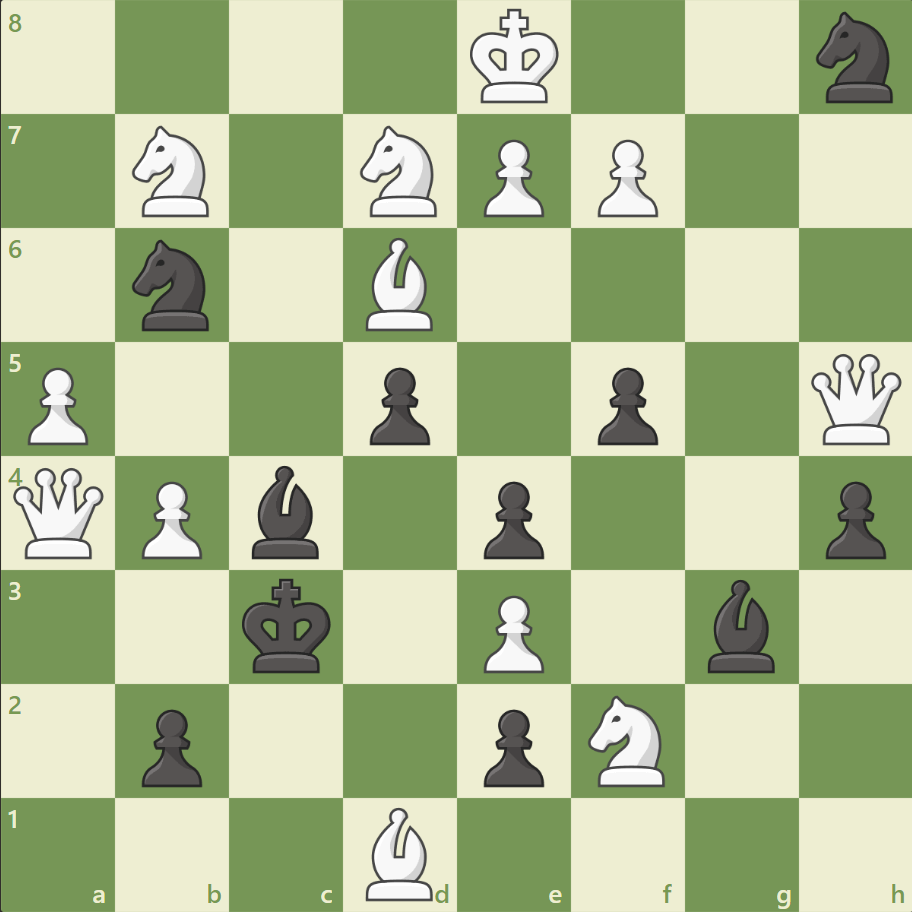B: (358, 233, 442, 336), (358, 801, 442, 904)
K: (465, 4, 565, 112)
N: (124, 121, 222, 223), (351, 121, 449, 223), (579, 688, 676, 791)
P: (474, 132, 549, 223), (20, 359, 95, 450), (133, 473, 208, 564), (474, 586, 549, 677), (588, 132, 662, 223)
Q: (805, 349, 904, 449), (10, 463, 109, 562)
b: (244, 460, 328, 563), (698, 574, 782, 676)
k: (238, 571, 338, 679)
n: (124, 234, 222, 337), (806, 7, 903, 110)
p: (474, 473, 549, 564), (133, 700, 208, 791), (474, 700, 549, 791), (361, 359, 435, 450), (588, 359, 662, 450), (815, 473, 889, 564)
